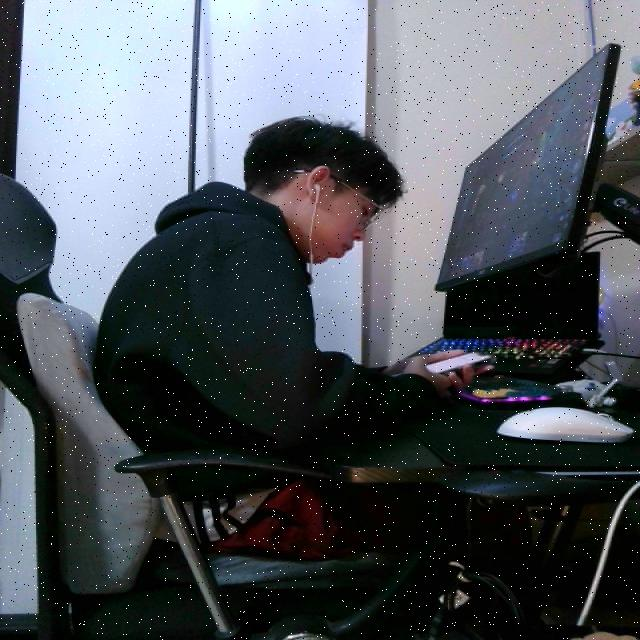Bad: (84, 117, 452, 546)
